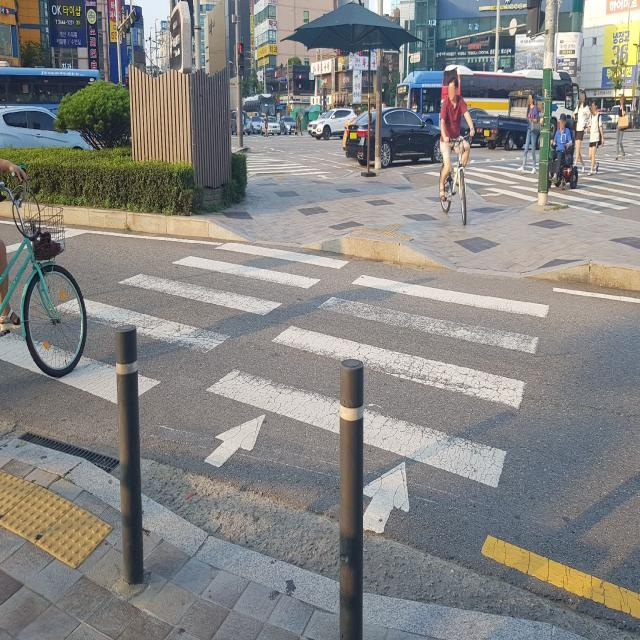빨간불: (238, 44, 244, 75)
횡단보도: (20, 231, 568, 577), (252, 153, 331, 178), (474, 168, 532, 196), (558, 188, 640, 204)
